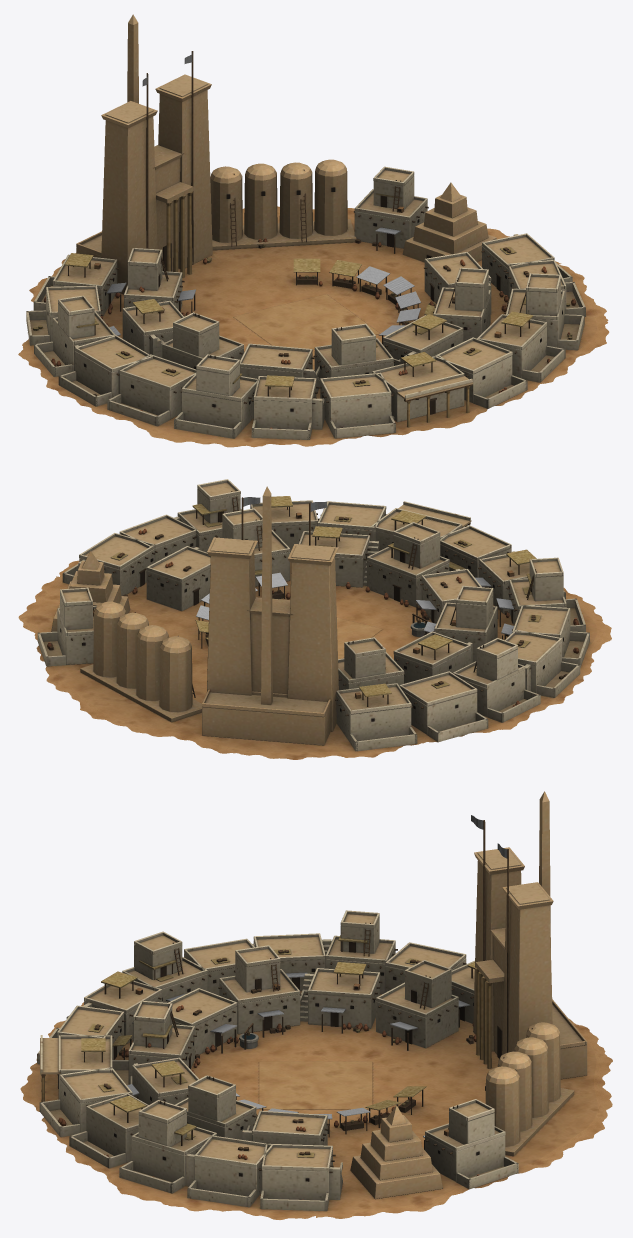
Rendered from bronze-town-big-b.glb.
3 views of the same model, one above another, from view 1: azimuth 30°, elevation 25°; view 2: azimuth 150°, elevation 25°; view 3: azimuth 270°, elevation 25° (orthographic). The views are drawn at different scales.
Parts seen in each view (by area): view 1: LOD0; view 2: LOD0; view 3: LOD0.
Part boxes in pixels (bbox=[...]): LOD0: bbox=[18, 14, 609, 447]; LOD0: bbox=[18, 479, 611, 759]; LOD0: bbox=[20, 791, 612, 1219].
Size of what is drawn, in the model's own units: 7.93 by 3.6 by 7.49.
Materials: 3 (3 with a texture image).
